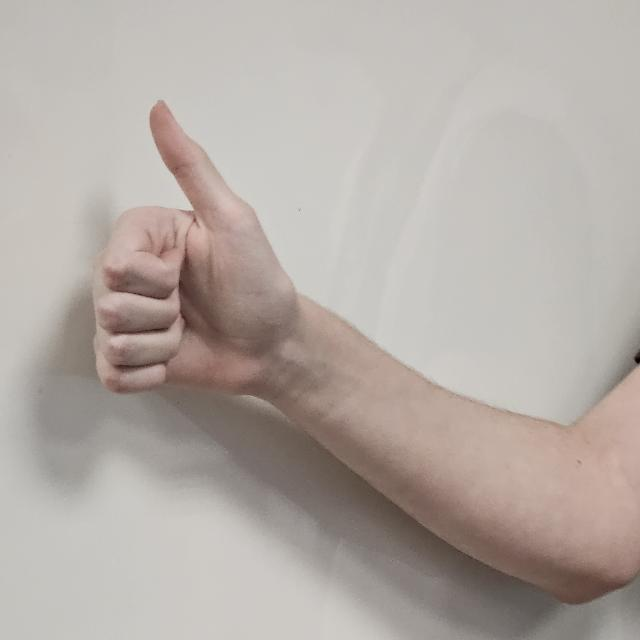Start: (95, 100, 297, 440)
